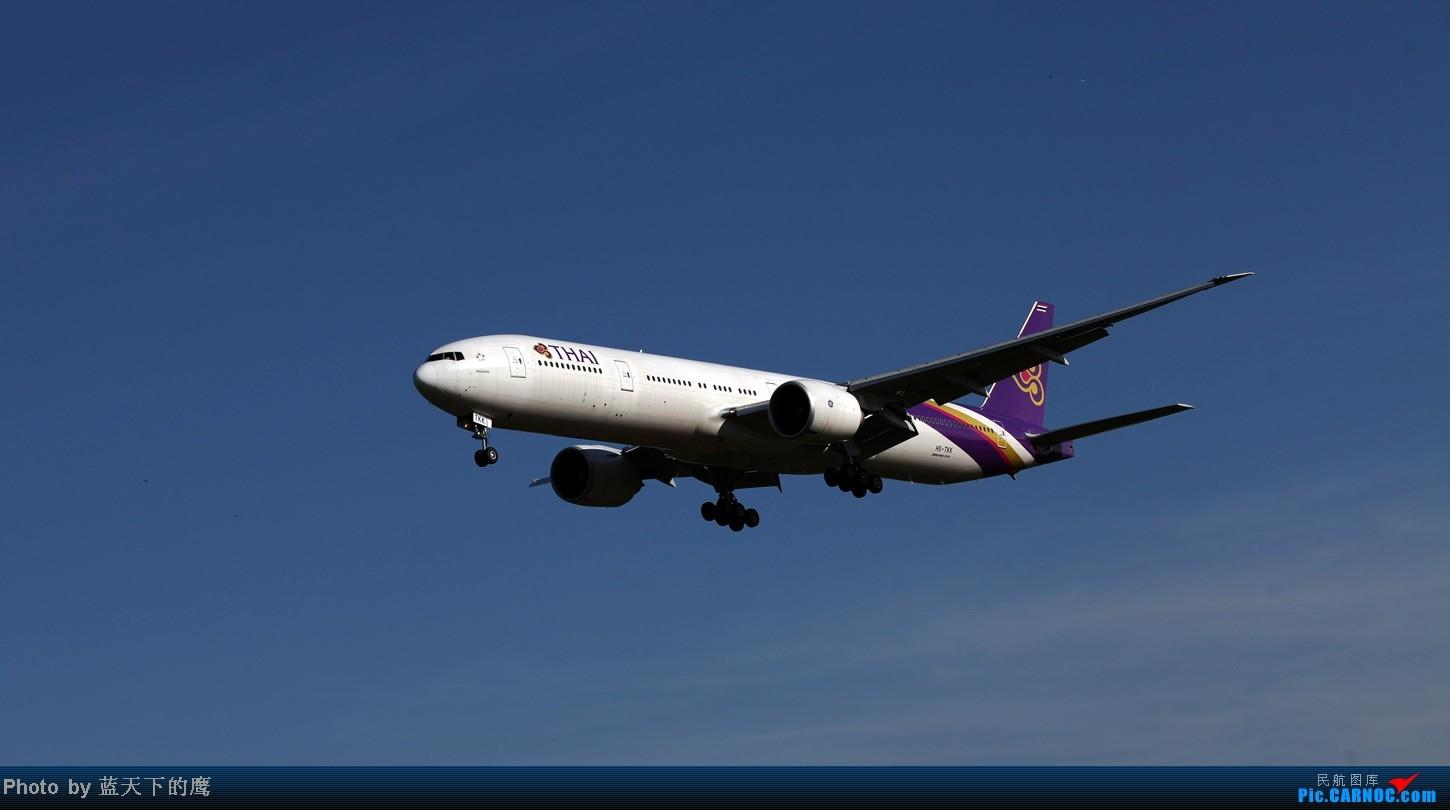airplane: (402, 239, 1279, 527)
